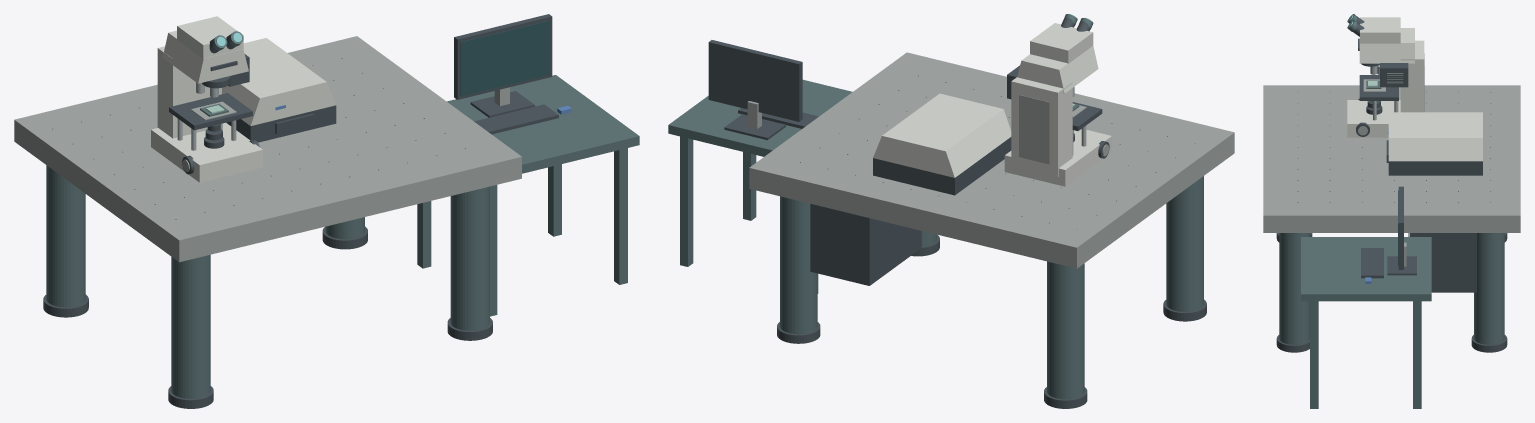
File: lsm980-nlo-display.glb
The picture shows the model from 3 angles, left to right: view 1: azimuth 30°, elevation 25°; view 2: azimuth 150°, elevation 25°; view 3: azimuth 270°, elevation 25°; orthographic projection. The views are drawn at different scales.
Visible parts, largest first — view 1: NLO_table_1800x1500, Workstation_top, Isolator_column_-973_568, Isolator_column_493_568, LSM_980_scan_cover, Isolator_column_-973_-568, Workstation_monitor_screen, Examiner_base, Examiner_rear_tower, Examiner_upper_housing, Workstation_leg_1351_452, Workstation_monitor_body (+9 smaller); view 2: NLO_table_1800x1500, LSM_980_scan_cover, NLO_closed_auxiliary_housing, Workstation_monitor_body, Isolator_column_-973_-568, Isolator_column_-973_568, Isolator_column_493_-568, Workstation_top, Examiner_rear_tower, LSM_980_scan_base, Examiner_upper_housing, Examiner_base (+5 smaller); view 3: NLO_table_1800x1500, Workstation_top, LSM_980_scan_cover, Isolator_column_493_-568, Isolator_column_493_568, NLO_closed_auxiliary_housing, LSM_980_scan_base, Examiner_upper_housing, Examiner_base, Examiner_rear_tower, Examiner_head_box, Workstation_leg_1351_-148 (+8 smaller).
Part boxes in pixels (box(x1,y1,x2,y2)): NLO_table_1800x1500: box(14, 36, 521, 262); Workstation_top: box(447, 75, 639, 173); Isolator_column_-973_568: box(171, 254, 210, 398); Isolator_column_493_568: box(450, 186, 489, 330); LSM_980_scan_cover: box(222, 38, 335, 125); Isolator_column_-973_-568: box(46, 165, 85, 307); Workstation_monitor_screen: box(460, 20, 549, 96); Examiner_base: box(151, 122, 262, 182); Examiner_rear_tower: box(157, 46, 221, 138); Examiner_upper_housing: box(162, 30, 248, 83); Workstation_leg_1351_452: box(614, 148, 627, 284); Workstation_monitor_body: box(454, 14, 552, 99); NLO_table_1800x1500: box(749, 52, 1234, 268); LSM_980_scan_cover: box(873, 93, 1011, 177); NLO_closed_auxiliary_housing: box(810, 203, 921, 285); Workstation_monitor_body: box(708, 40, 802, 121); Isolator_column_-973_-568: box(1047, 261, 1084, 399); Isolator_column_-973_568: box(1166, 176, 1203, 311); Isolator_column_493_-568: box(780, 196, 817, 334); Workstation_top: box(668, 79, 852, 156); Examiner_rear_tower: box(1011, 77, 1072, 176); LSM_980_scan_base: box(873, 137, 1011, 195); Examiner_upper_housing: box(1017, 46, 1098, 93); Examiner_base: box(1004, 129, 1111, 186); NLO_table_1800x1500: box(1263, 85, 1520, 232); Workstation_top: box(1301, 237, 1431, 301); LSM_980_scan_cover: box(1388, 112, 1482, 161); Isolator_column_493_-568: box(1474, 233, 1504, 344); Isolator_column_493_568: box(1279, 233, 1309, 344); NLO_closed_auxiliary_housing: box(1410, 233, 1476, 292); LSM_980_scan_base: box(1388, 161, 1482, 175); Examiner_upper_housing: box(1359, 28, 1414, 63); Examiner_base: box(1347, 100, 1400, 137); Examiner_rear_tower: box(1400, 40, 1424, 112); Examiner_head_box: box(1360, 17, 1400, 43); Workstation_leg_1351_-148: box(1413, 301, 1421, 408).
Size of the model in its own units: 2.54 by 1.6 by 1.5.
